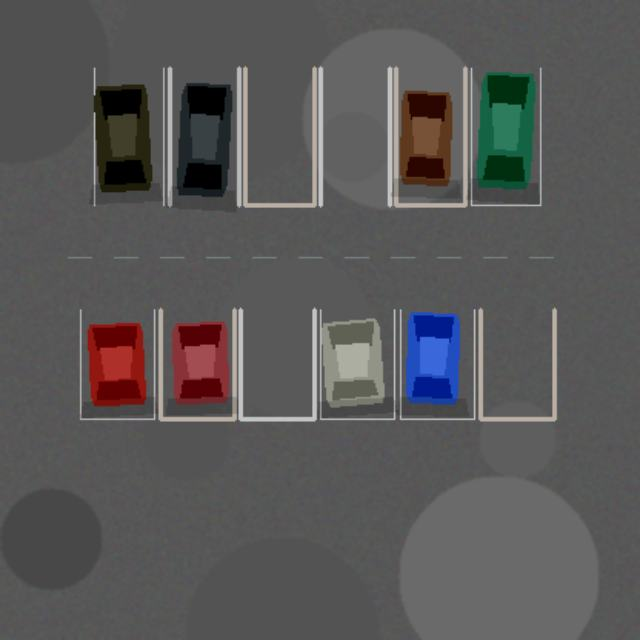space-empty: (245, 68, 314, 205), (320, 68, 389, 205), (240, 309, 314, 418), (480, 309, 554, 418)
space-occupied: (395, 68, 465, 205), (94, 68, 163, 205), (169, 68, 238, 205), (471, 68, 540, 205), (80, 309, 154, 418), (160, 309, 234, 418), (320, 309, 394, 418), (400, 309, 474, 418)
